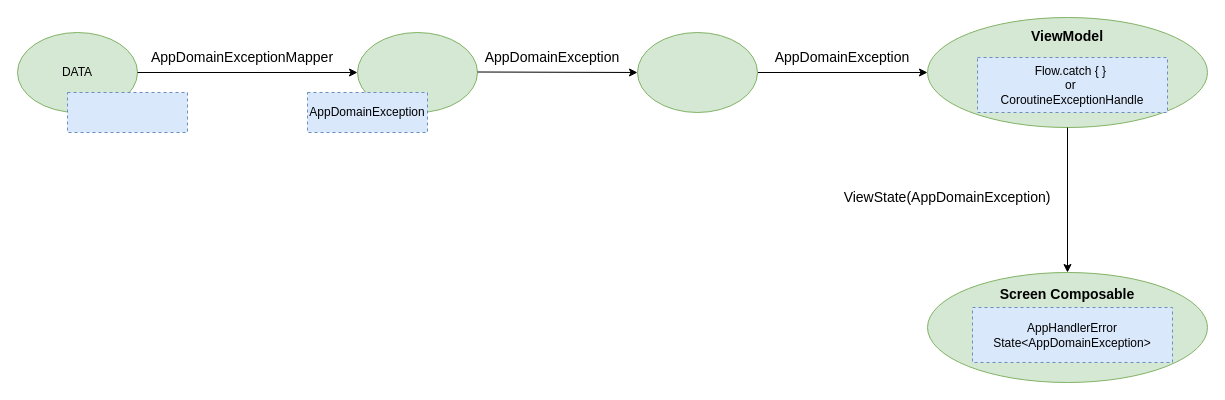
Some shapes in this 1225 by 400 pixel diagram are drawn without their labels. Each missing label, with the box of its shape:
REPOSITORY: (356, 32, 478, 112)
ResponseException: (66, 92, 188, 132)
USECASE: (636, 32, 758, 112)
